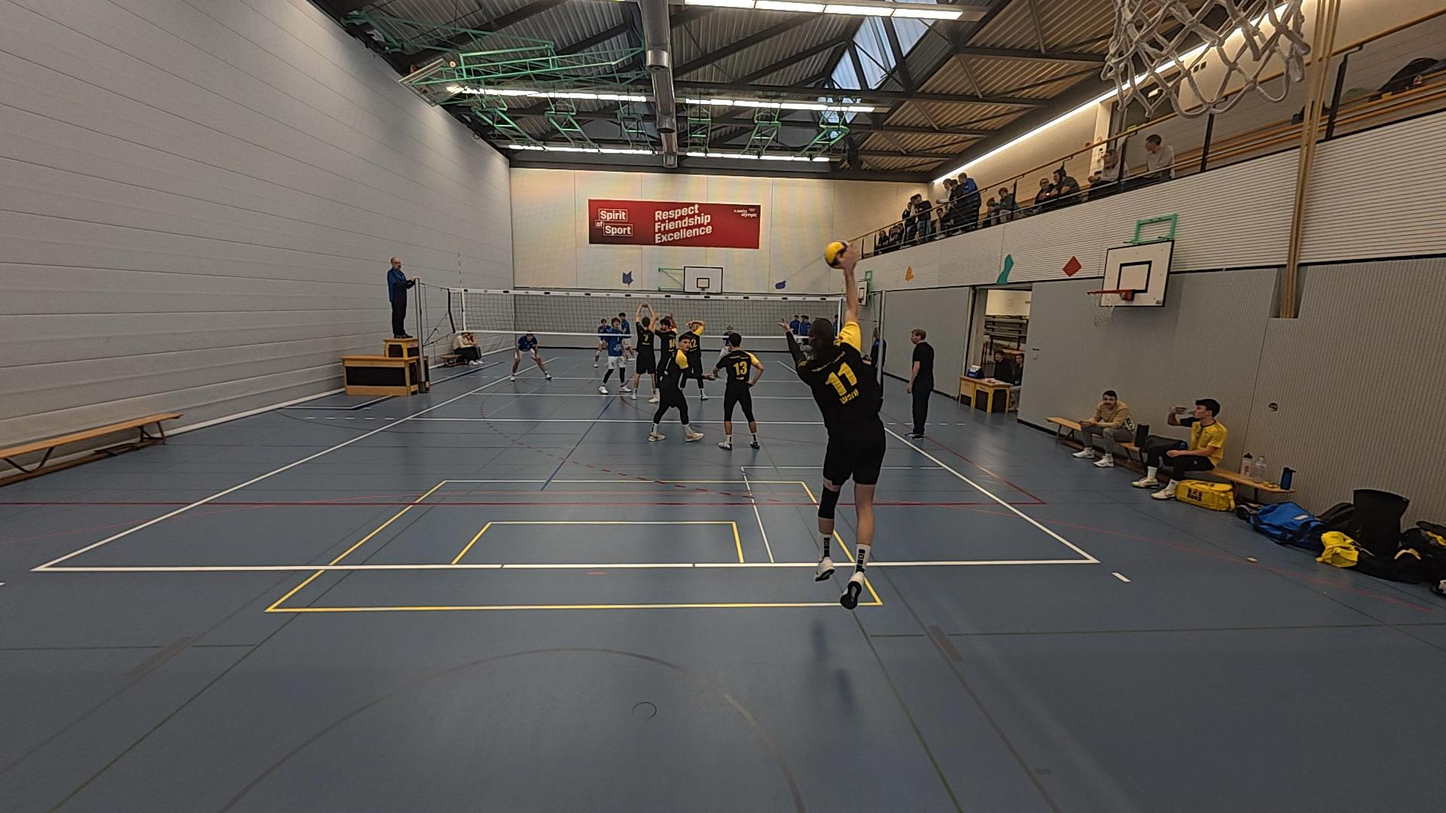battuta: (777, 243, 897, 614)
